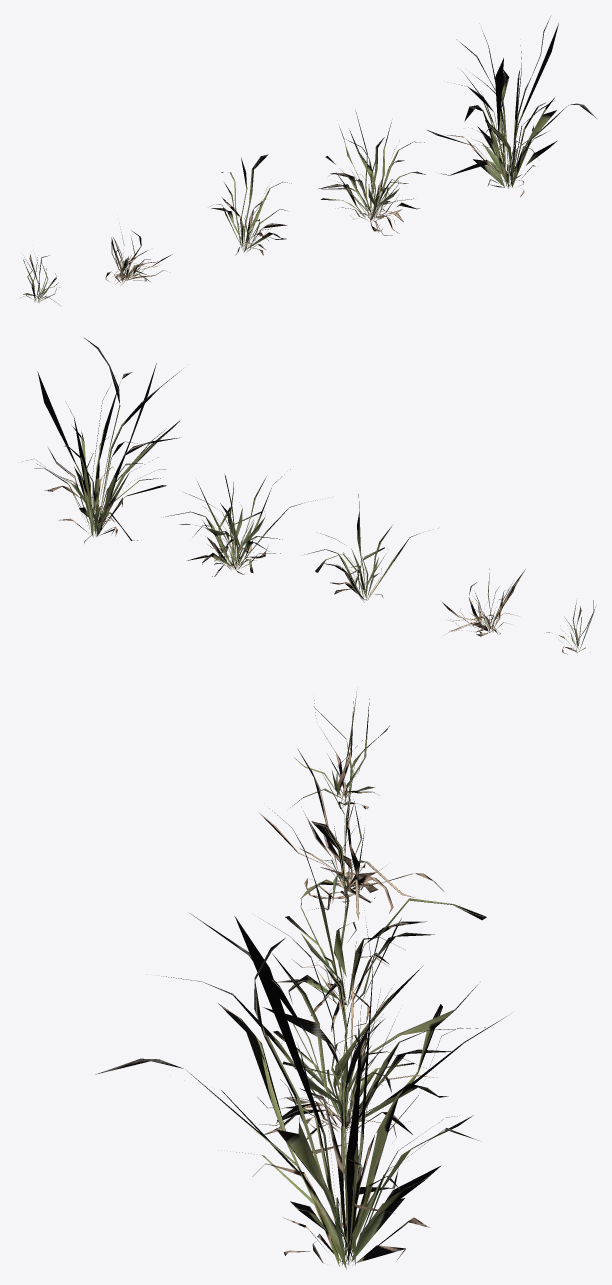
File: grass_medium_02.glb
3 views of the same model, one above another, from view 1: azimuth 30°, elevation 25°; view 2: azimuth 150°, elevation 25°; view 3: azimuth 270°, elevation 25° (orthographic). The views are drawn at different scales.
Visible parts, largest first — view 1: grass_medium_02_e, grass_medium_02_d, grass_medium_02_c, grass_medium_02_b, grass_medium_02_a; view 2: grass_medium_02_e, grass_medium_02_d, grass_medium_02_c, grass_medium_02_b; view 3: grass_medium_02_e, grass_medium_02_d, grass_medium_02_c, grass_medium_02_b, grass_medium_02_a.
Part boxes in pixels (x1,y1,x2,y2): grass_medium_02_e: (427,16,596,196); grass_medium_02_d: (318,110,425,235); grass_medium_02_c: (208,154,291,255); grass_medium_02_b: (105,223,172,285); grass_medium_02_a: (21,253,60,305); grass_medium_02_e: (22,338,183,543); grass_medium_02_d: (163,469,315,576); grass_medium_02_c: (304,494,420,602); grass_medium_02_b: (440,568,525,636); grass_medium_02_e: (95,910,511,1269); grass_medium_02_d: (156,918,493,1153); grass_medium_02_c: (269,808,486,1031); grass_medium_02_b: (258,749,444,919); grass_medium_02_a: (290,689,389,809).
Bounding box in the file's own units: 1.29 × 0.4038 × 0.4318.
1 material, 1 textured.
